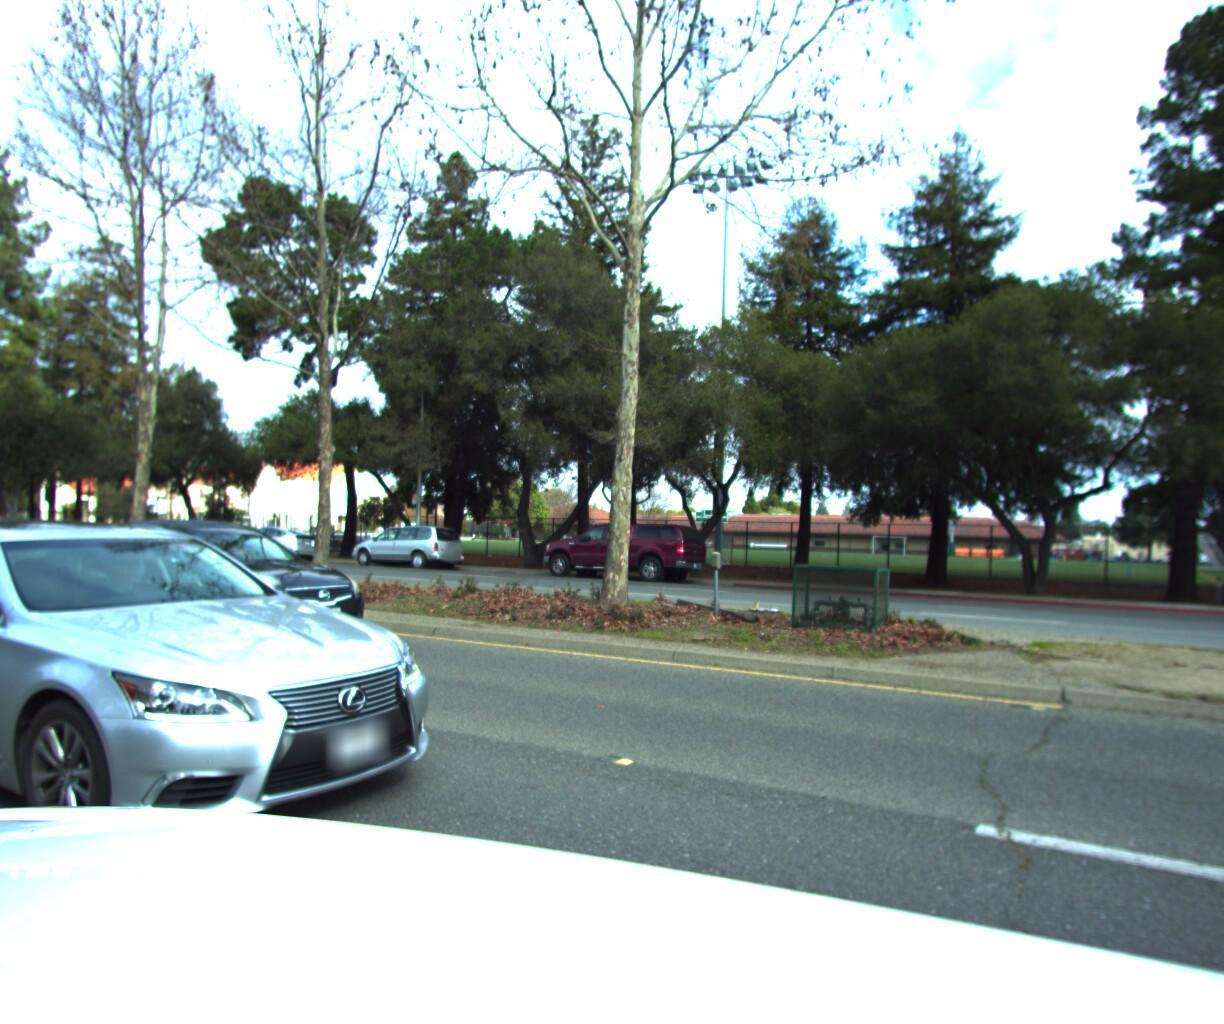car: (38, 510, 402, 658), (531, 513, 711, 584), (339, 516, 473, 569), (219, 520, 329, 561)
